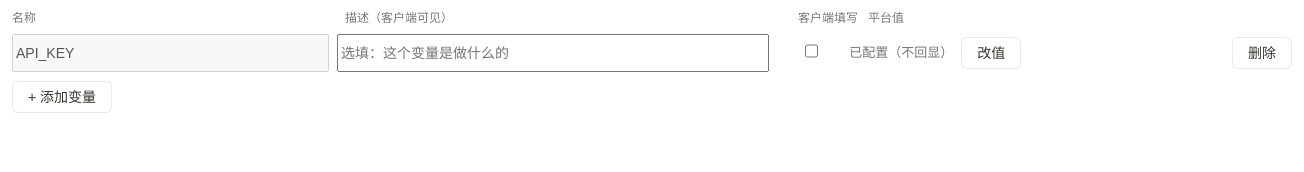
ParamRowsEditor › A11 三步式改值 / 删除（threeStep） › 点【改值】：就地展开输入框填新值，并给出【取消改值】
Click the button "改值" at (991, 53), box [961, 37, 1021, 69]
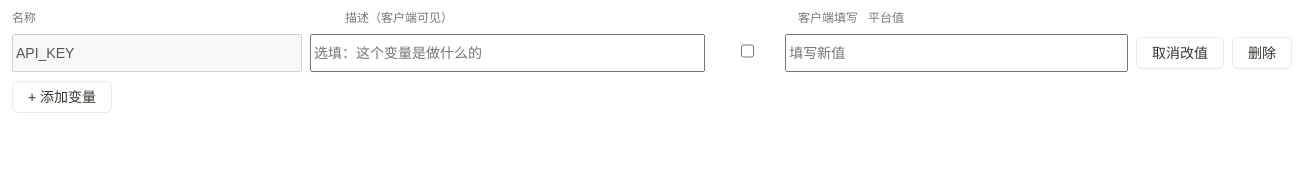
Result: the number of fields is 3 at [12, 34, 302, 72]; [310, 34, 705, 72]; [785, 34, 1128, 72]
Result: the element showing "取消改值 删除" is shown at [12, 32, 1292, 73]
